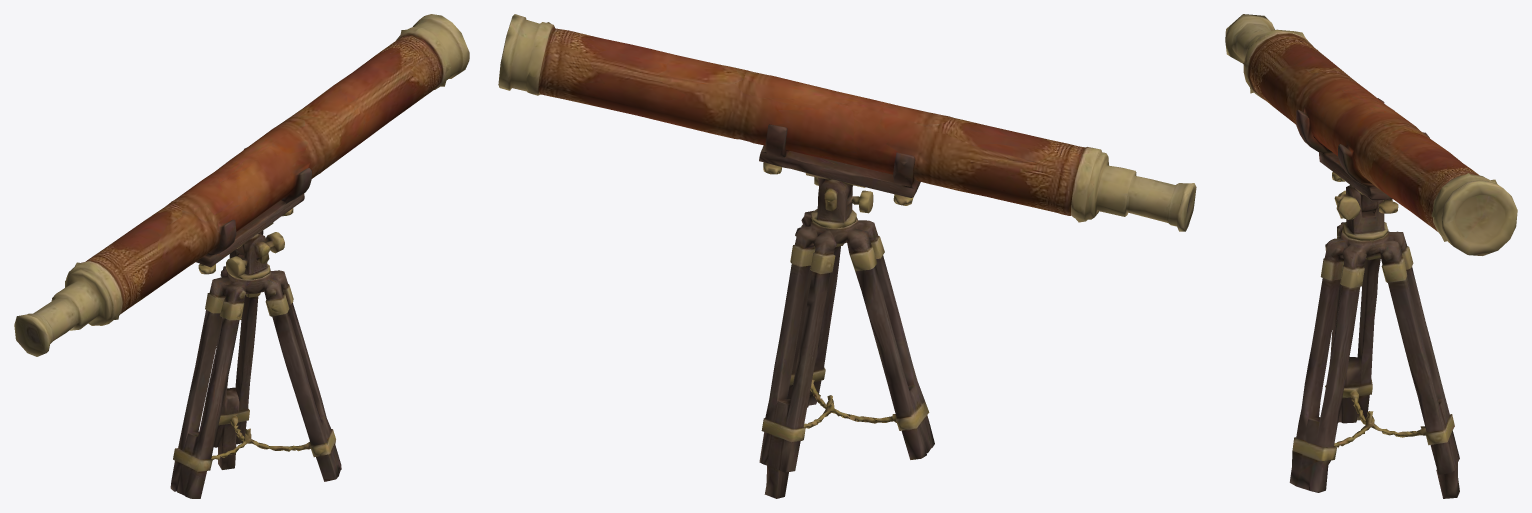
The model's file is galileo_telescope.glb.
3 views of the same model, side by side, from view 1: azimuth 30°, elevation 25°; view 2: azimuth 150°, elevation 25°; view 3: azimuth 270°, elevation 25° (orthographic). The views are drawn at different scales.
Parts seen in each view (by area): view 1: tripo_node_93c04d5d-5a81-40d6-9cac-2b46b597d4a7; view 2: tripo_node_93c04d5d-5a81-40d6-9cac-2b46b597d4a7; view 3: tripo_node_93c04d5d-5a81-40d6-9cac-2b46b597d4a7.
Boxes of the visible parts, x1,y1,x2,y2 form: tripo_node_93c04d5d-5a81-40d6-9cac-2b46b597d4a7: [14, 14, 469, 498]; tripo_node_93c04d5d-5a81-40d6-9cac-2b46b597d4a7: [498, 14, 1196, 498]; tripo_node_93c04d5d-5a81-40d6-9cac-2b46b597d4a7: [1225, 14, 1517, 498].
Bounding box in the file's own units: 0.9804 × 0.6818 × 0.4121.
Materials: 1 (1 with a texture image).
